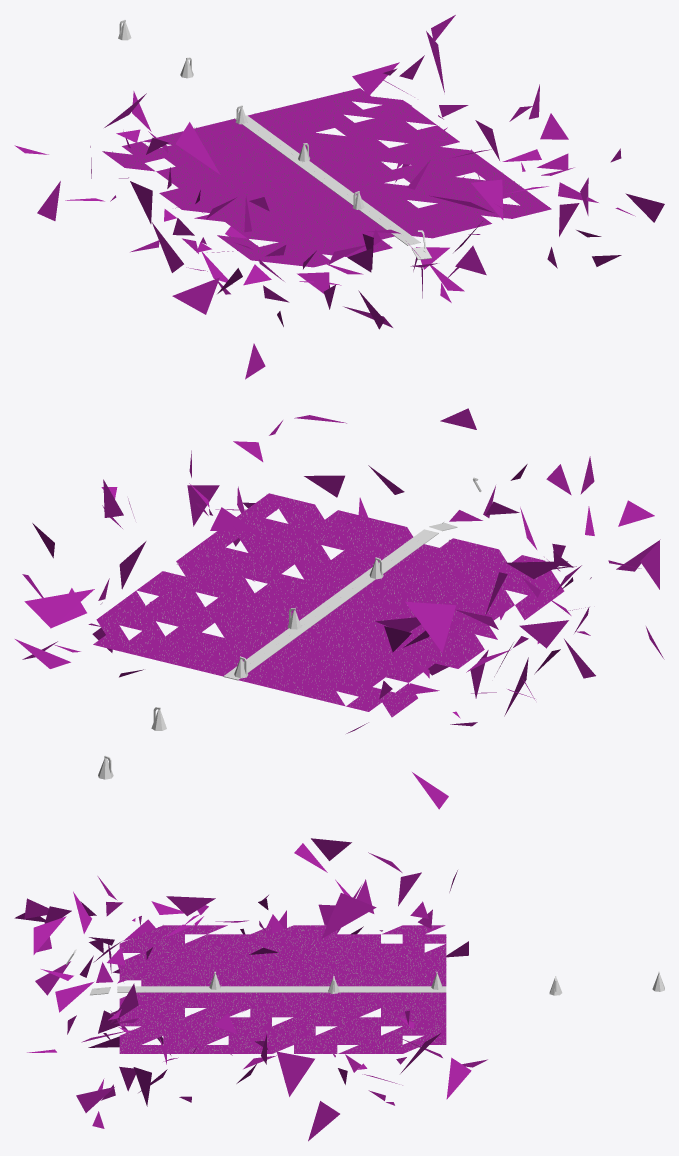
Rendered from roadside.fbx.
3 renders of one model, top to bottom at view 1: azimuth 30°, elevation 25°; view 2: azimuth 150°, elevation 25°; view 3: azimuth 270°, elevation 25°, orthographic. The views are drawn at different scales.
Parts seen in each view (by area): view 1: Plane, Plane.001, tri.009, Cube.001; view 2: Plane, Plane.001, tri.009, Cube.001; view 3: Plane, Plane.001, tri.009, Cube.001.
Part boxes in pixels (box(x1,y1,x2,y2)): Plane: box(102, 88, 551, 267); Plane.001: box(14, 15, 664, 379); tri.009: box(103, 88, 549, 266); Cube.001: box(234, 115, 420, 245); Plane: box(93, 493, 564, 717); Plane.001: box(15, 408, 664, 809); tri.009: box(95, 494, 557, 715); Cube.001: box(223, 529, 438, 680); Plane: box(119, 925, 446, 1053); Plane.001: box(14, 838, 487, 1141); tri.009: box(119, 924, 446, 1053); Cube.001: box(117, 986, 446, 992).
Bounding box in the file's own units: 29497 × 9222 × 37375.
